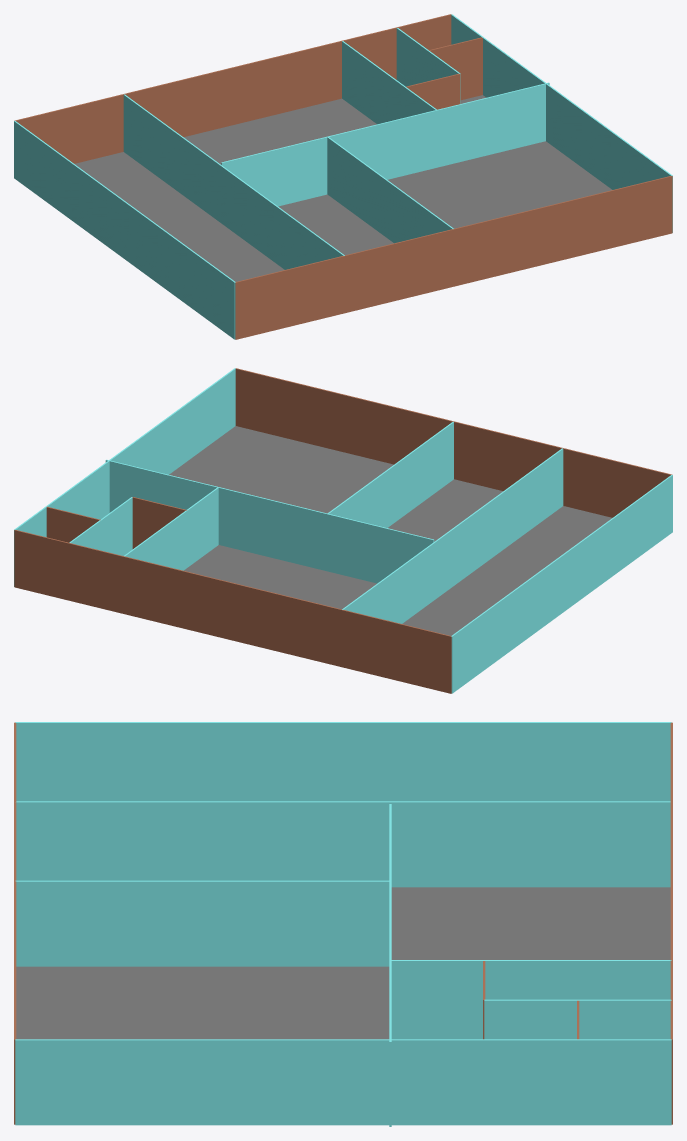
File: 二階サンプル.fbx
3 views of the same model, one above another, from view 1: azimuth 30°, elevation 25°; view 2: azimuth 150°, elevation 25°; view 3: azimuth 270°, elevation 25° (orthographic). The views are drawn at different scales.
Visible parts, largest first — view 1: Floor201, Wall203, Wall202, Wall206, Wall204, Wall207, Wall201, Wall205, Wall208, Wall209, Wall211, Wall210; view 2: Floor201, Wall202, Wall203, Wall206, Wall204, Wall207, Wall201, Wall205, Wall208, Wall209, Wall210, Wall211; view 3: Wall201, Wall207, Wall204, Floor201, Wall205, Wall208, Wall209, Wall203, Wall202, Wall206.
Boxes of the visible parts, x1,y1,x2,y2 form: Floor201: [75, 95, 611, 281]; Wall203: [235, 176, 672, 339]; Wall202: [14, 14, 451, 163]; Wall206: [221, 82, 549, 206]; Wall204: [14, 121, 235, 339]; Wall207: [123, 94, 344, 269]; Wall201: [451, 14, 672, 232]; Wall205: [327, 136, 453, 243]; Wall208: [342, 41, 436, 124]; Wall209: [396, 28, 460, 103]; Wall211: [429, 37, 482, 100]; Wall210: [406, 73, 460, 109]; Floor201: [169, 426, 611, 635]; Wall202: [14, 529, 451, 693]; Wall203: [235, 368, 672, 517]; Wall206: [105, 459, 434, 583]; Wall204: [451, 475, 672, 693]; Wall207: [342, 448, 563, 623]; Wall201: [14, 368, 235, 586]; Wall205: [327, 422, 453, 527]; Wall208: [124, 487, 218, 570]; Wall209: [69, 497, 132, 555]; Wall210: [132, 497, 186, 548]; Wall211: [46, 506, 100, 542]; Wall201: [15, 1039, 671, 1125]; Wall207: [16, 801, 670, 887]; Wall204: [15, 722, 671, 801]; Floor201: [16, 887, 670, 1039]; Wall205: [15, 880, 389, 966]; Wall208: [391, 960, 671, 1039]; Wall209: [484, 999, 671, 1039]; Wall203: [14, 722, 16, 1124]; Wall202: [670, 722, 672, 1124]; Wall206: [389, 804, 391, 1126].
Bounding box in the file's own units: 3228 × 400 × 2810.
